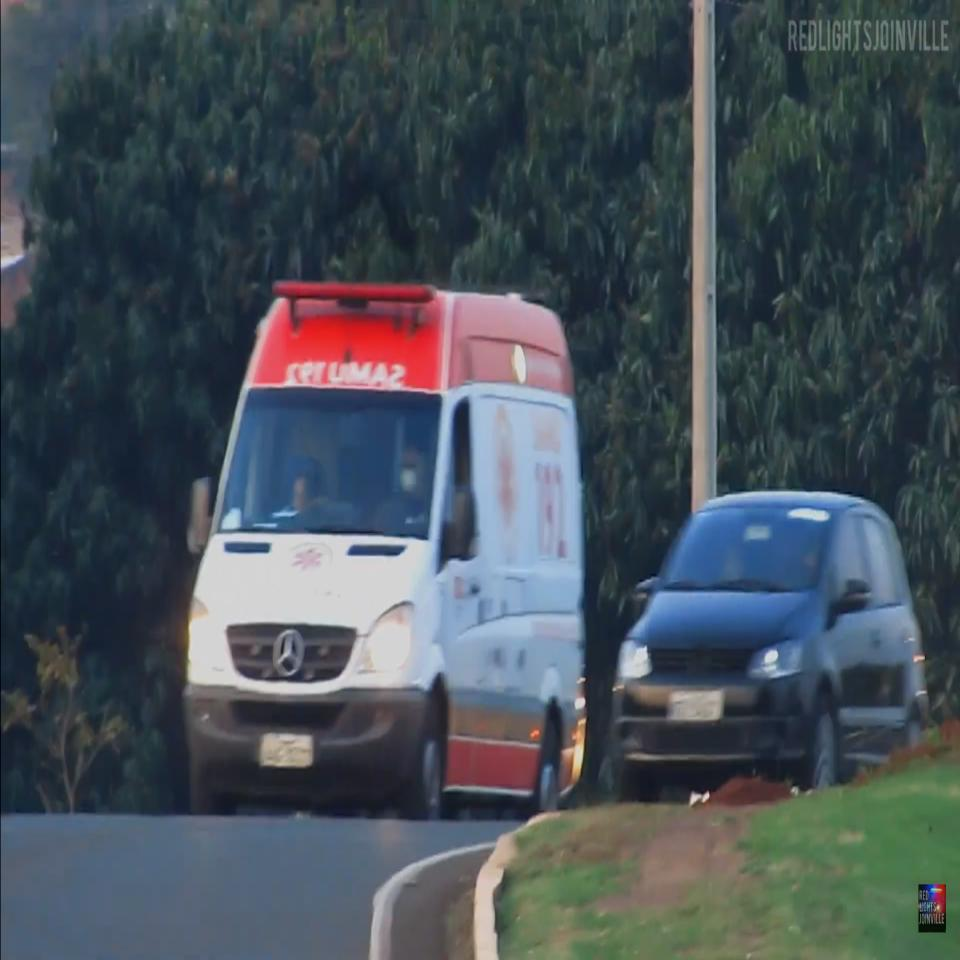ambulancia: (182, 277, 590, 830)
